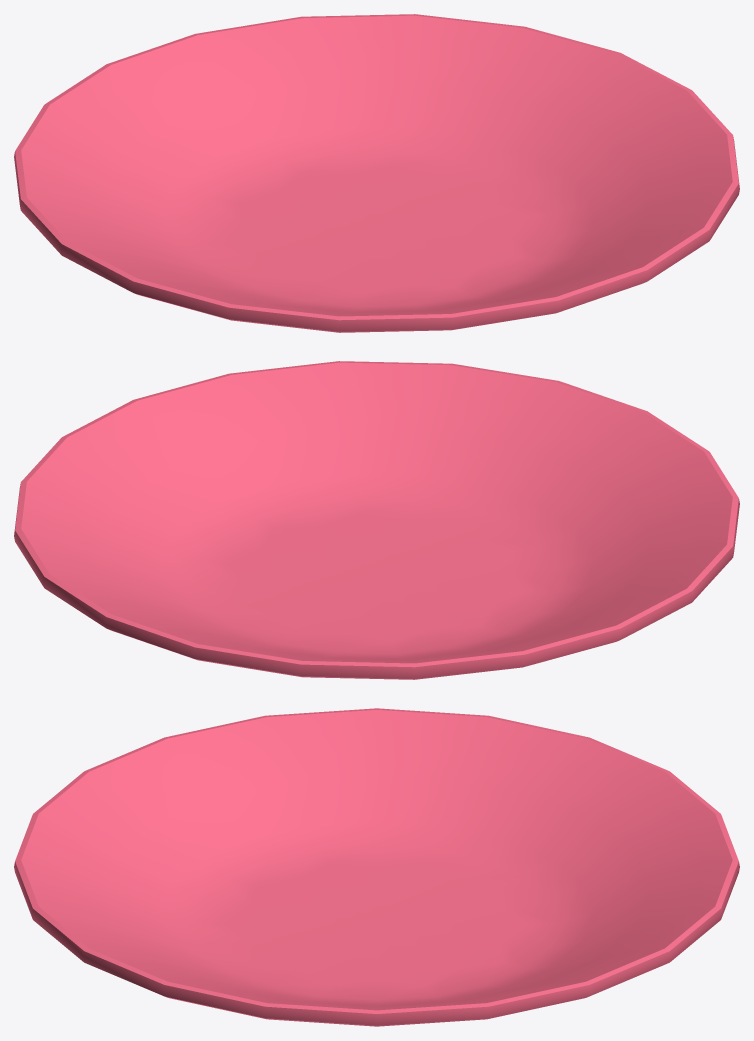
File: tabak.fbx
The picture shows the model from 3 angles, top to bottom: view 1: azimuth 30°, elevation 25°; view 2: azimuth 150°, elevation 25°; view 3: azimuth 270°, elevation 25°; orthographic projection.
Visible parts, largest first — view 1: Cylinder.040; view 2: Cylinder.040; view 3: Cylinder.040.
Boxes of the visible parts, x1,y1,x2,y2 form: Cylinder.040: [14, 14, 739, 332]; Cylinder.040: [14, 361, 739, 679]; Cylinder.040: [14, 708, 739, 1026].
Size of the model in its own units: 1135 by 1136 by 126.
